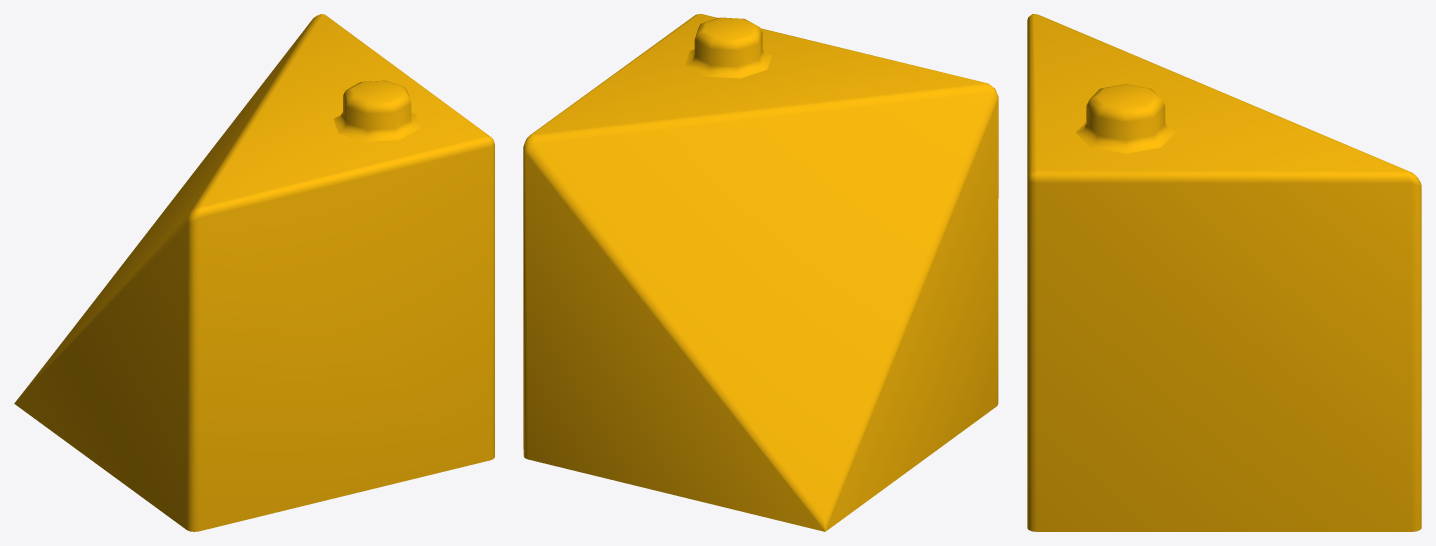
File: Full_Bevel.fbx
The picture shows the model from 3 angles, left to right: view 1: azimuth 30°, elevation 25°; view 2: azimuth 150°, elevation 25°; view 3: azimuth 270°, elevation 25°; orthographic projection. The views are drawn at different scales.
Parts seen in each view (by area): view 1: Full_Bevel, Knobs.038; view 2: Full_Bevel, Knobs.038; view 3: Full_Bevel, Knobs.038.
Part boxes in pixels (x1=…): Full_Bevel: x1=14, y1=14, x2=494, y2=531; Knobs.038: x1=334, y1=80, x2=420, y2=141; Full_Bevel: x1=523, y1=14, x2=998, y2=531; Knobs.038: x1=685, y1=17, x2=771, y2=78; Full_Bevel: x1=1027, y1=14, x2=1421, y2=531; Knobs.038: x1=1076, y1=84, x2=1175, y2=153.
Bounding box in the file's own units: 1 × 1.1 × 1.
